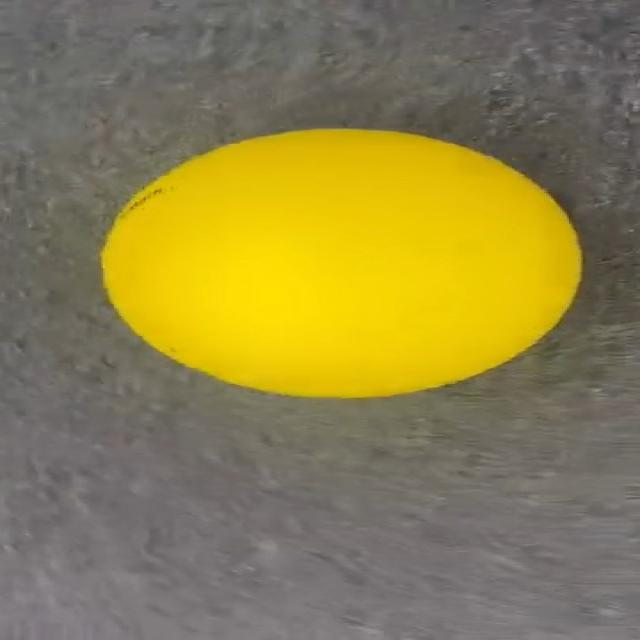Fuels: (103, 128, 580, 396)
